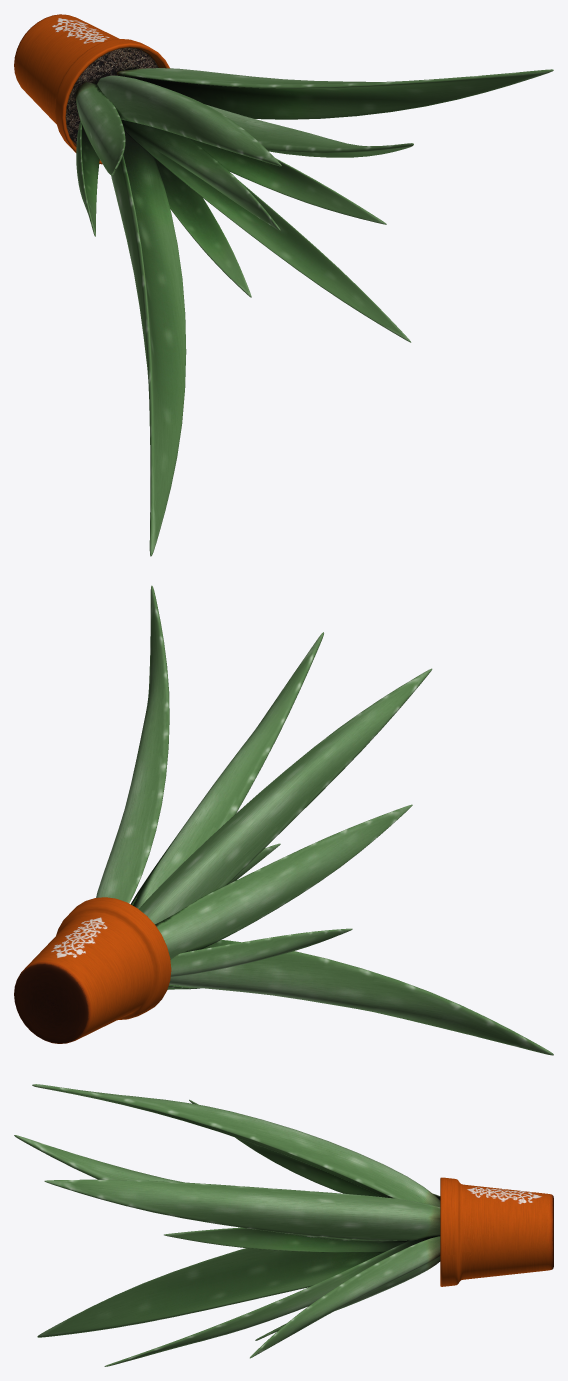
File: 10432_Aloe_Plant_v1_max2008_it2.obj
The picture shows the model from 3 angles, top to bottom: view 1: azimuth 30°, elevation 25°; view 2: azimuth 150°, elevation 25°; view 3: azimuth 270°, elevation 25°; orthographic projection. The views are drawn at different scales.
Visible parts, largest first — view 1: 10432_Aloe_Plant_v1; view 2: 10432_Aloe_Plant_v1; view 3: 10432_Aloe_Plant_v1.
Boxes of the visible parts, left/top/right/bottom form: 10432_Aloe_Plant_v1: left=14, top=14, right=553, bottom=556; 10432_Aloe_Plant_v1: left=14, top=585, right=553, bottom=1055; 10432_Aloe_Plant_v1: left=14, top=1084, right=553, bottom=1366.
Size of the model in its own units: 21.89 by 19.74 by 29.87.
Materials: 1 (1 with a texture image).
